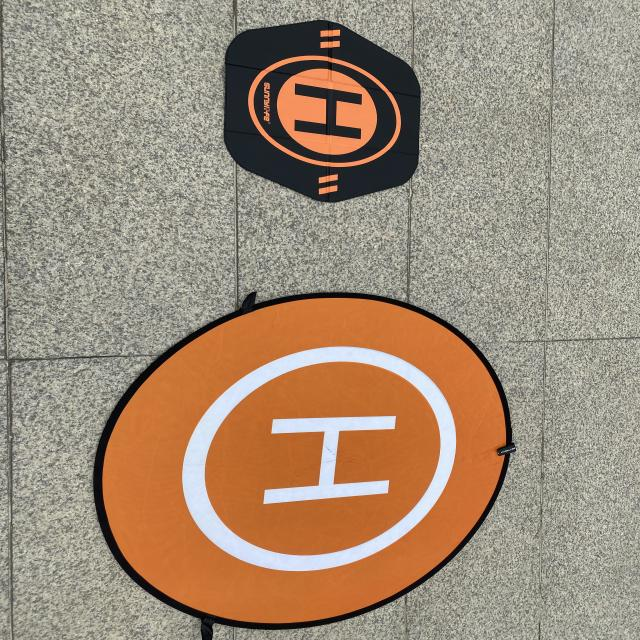helipad: (170, 340, 468, 576), (241, 49, 409, 171)
